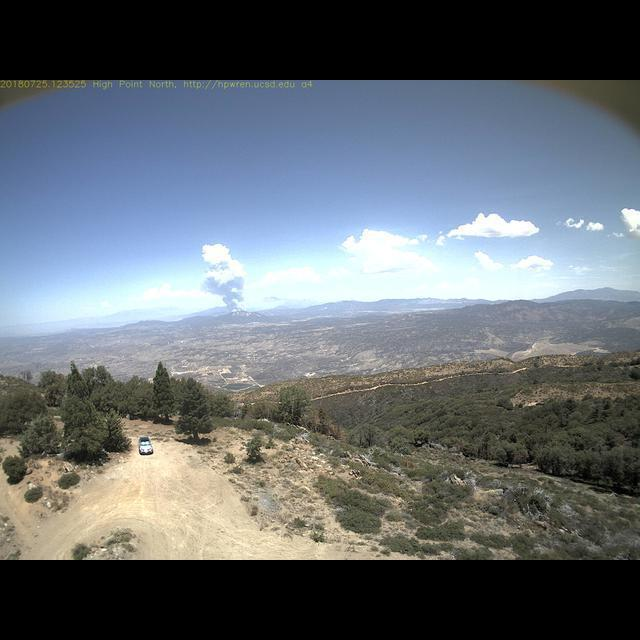Smoke: (196, 240, 251, 319)
